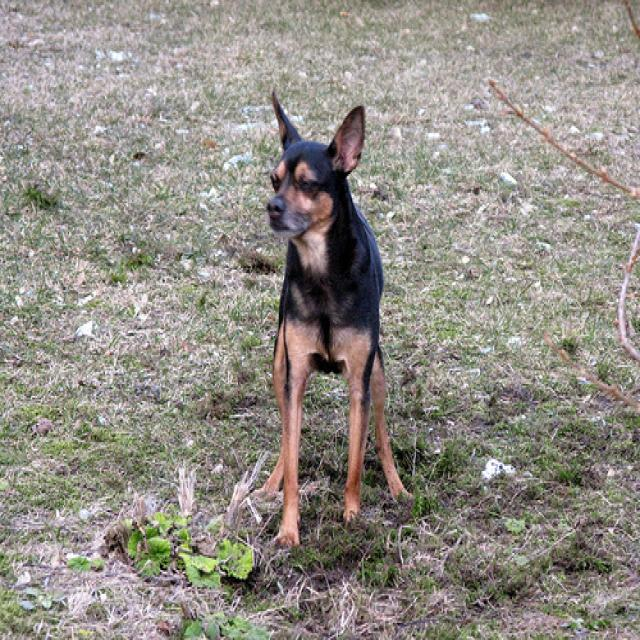dog-miniature_pinscher: (253, 85, 410, 555)
